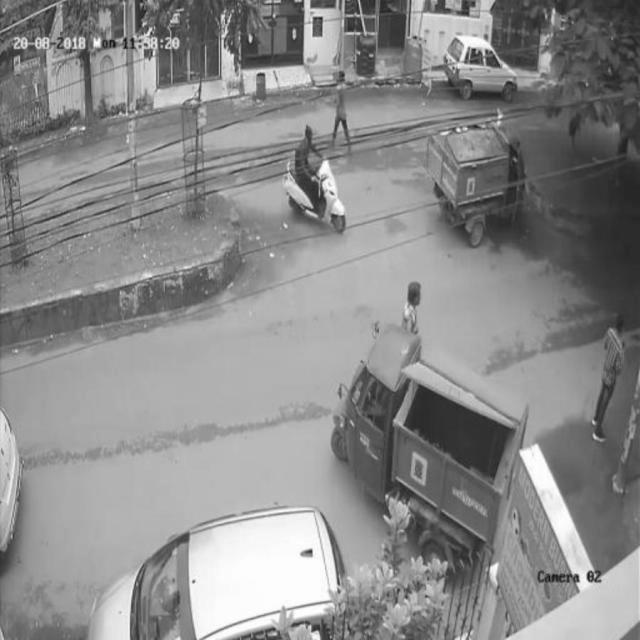person: (588, 307, 625, 444), (334, 68, 352, 164)
vehicle: (334, 328, 529, 571), (89, 504, 360, 638), (427, 116, 530, 244), (285, 123, 349, 233), (446, 33, 520, 106)
